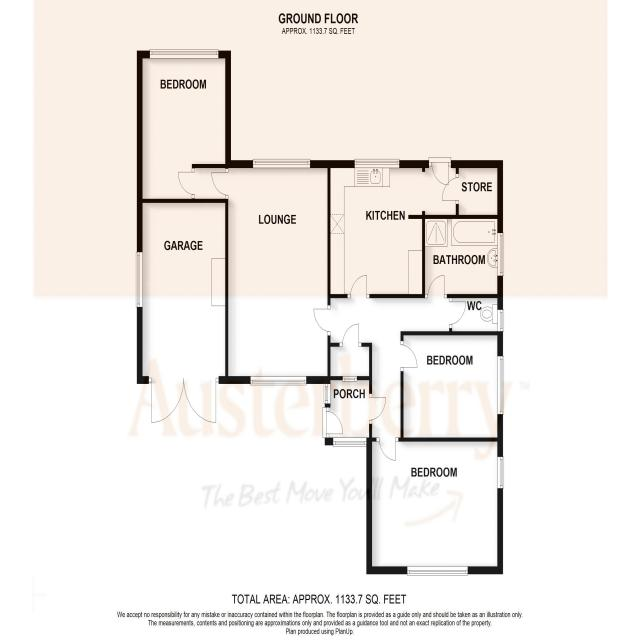DOOR: (376, 437, 399, 462), (400, 341, 418, 372), (313, 305, 331, 336), (178, 167, 195, 199), (211, 168, 228, 200), (347, 275, 370, 298), (425, 275, 447, 298)
ROOM: (211, 158, 331, 386), (366, 437, 504, 576), (137, 48, 231, 203), (327, 159, 425, 298), (400, 331, 504, 442), (449, 298, 466, 329)
WINDOW: (149, 48, 219, 59), (252, 158, 311, 169), (250, 375, 307, 386), (407, 566, 468, 576), (354, 159, 400, 169), (497, 355, 504, 415), (496, 455, 505, 490), (497, 232, 504, 276), (497, 309, 504, 332)
